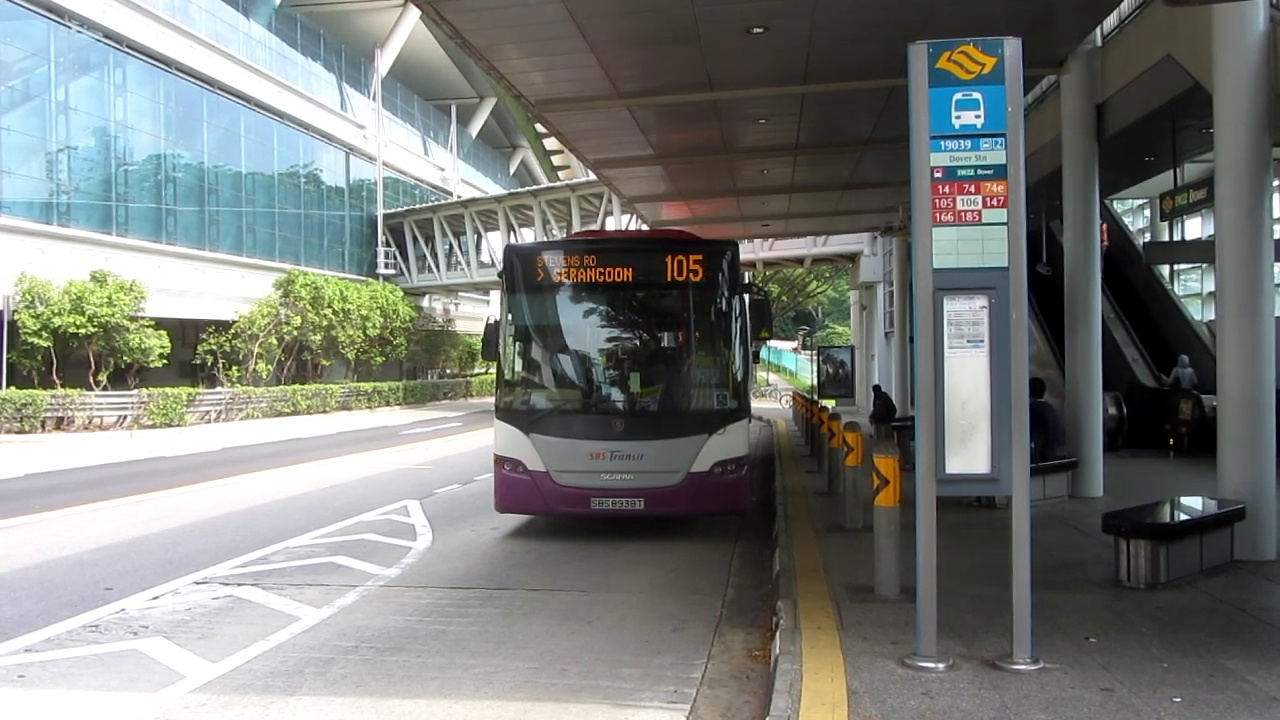bus panel: (530, 250, 710, 285)
